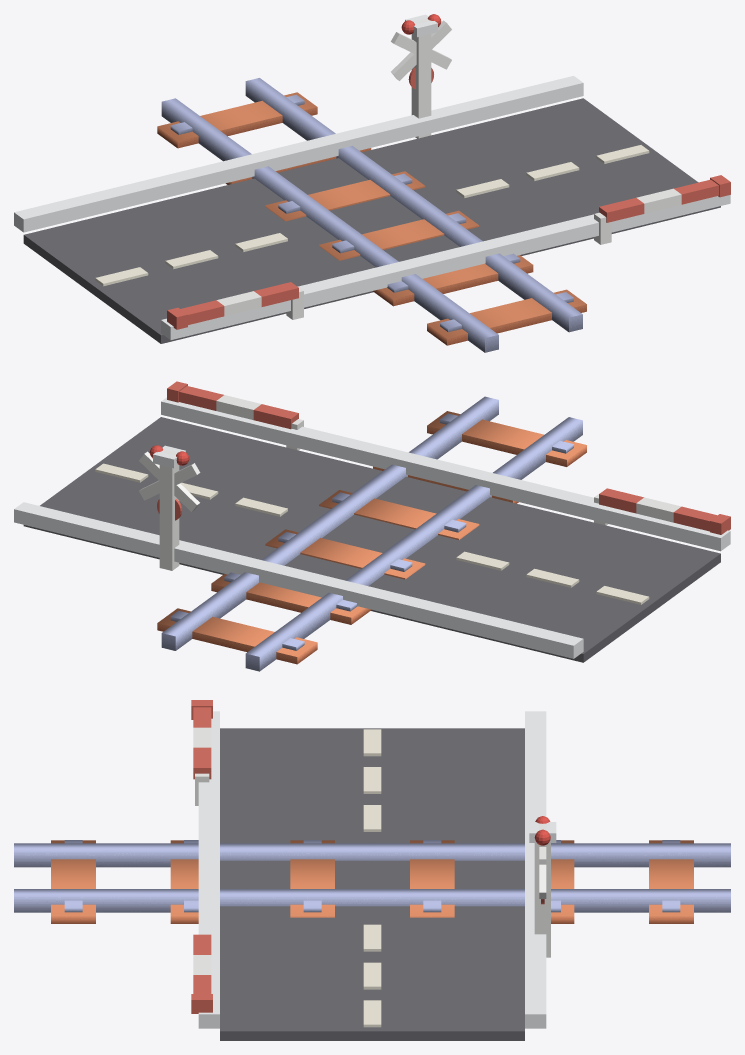
File: crossing-gate.glb
3 views of the same model, one above another, from view 1: azimuth 30°, elevation 25°; view 2: azimuth 150°, elevation 25°; view 3: azimuth 270°, elevation 25° (orthographic). The views are drawn at different scales.
Parts seen in each view (by area): view 1: crossing_road, crossing_rail, crossing_snow, crossing_gate_east, crossing_gate_west, crossing_buck, crossing_buck_arms; view 2: crossing_road, crossing_rail, crossing_snow, crossing_gate_east, crossing_gate_west, crossing_buck, crossing_buck_arms; view 3: crossing_road, crossing_rail, crossing_snow, crossing_gate_west, crossing_gate_east, crossing_buck.
Part boxes in pixels (x1,y1,x2,y2): crossing_road: (23, 98, 720, 343); crossing_rail: (157, 78, 586, 352); crossing_snow: (14, 14, 730, 339); crossing_gate_east: (594, 175, 730, 244); crossing_gate_west: (167, 282, 303, 329); crossing_buck: (411, 34, 431, 138); crossing_buck_arms: (391, 20, 451, 89); crossing_road: (23, 417, 720, 662); crossing_rail: (157, 396, 586, 671); crossing_snow: (14, 397, 730, 658); crossing_gate_east: (167, 381, 303, 450); crossing_gate_west: (594, 488, 730, 534); crossing_buck: (159, 465, 179, 570); crossing_buck_arms: (139, 451, 200, 520); crossing_road: (220, 728, 524, 1040); crossing_rail: (14, 840, 730, 923); crossing_snow: (198, 711, 556, 1028); crossing_gate_west: (191, 700, 212, 805); crossing_gate_east: (191, 934, 212, 1013); crossing_buck: (534, 843, 550, 957).
Bounding box in the file's own units: 4 × 0.825 × 4.
8 materials, 1 textured.
